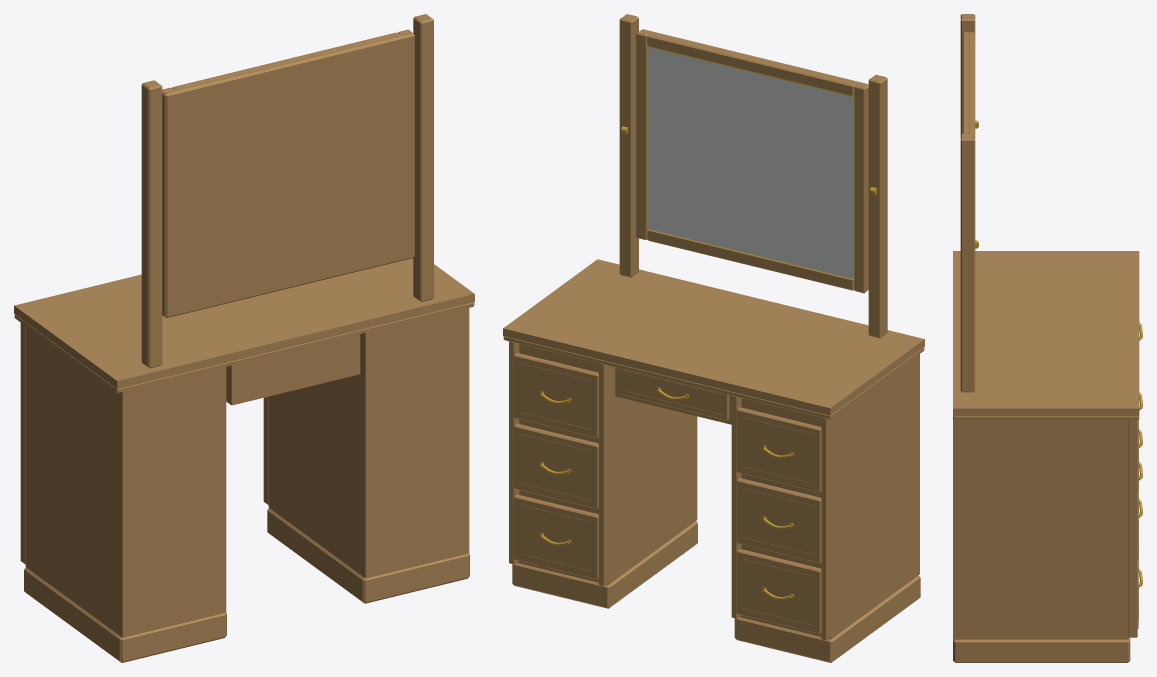
Rendered from parametric-dressing_table-2nd-pub.glb.
3 renders of one model, left to right at view 1: azimuth 30°, elevation 25°; view 2: azimuth 150°, elevation 25°; view 3: azimuth 270°, elevation 25°, orthographic. The views are drawn at different scales.
Visible parts, largest first — view 1: parametric-dressing_table-2nd-pub; view 2: parametric-dressing_table-2nd-pub; view 3: parametric-dressing_table-2nd-pub.
Boxes of the visible parts, x1,y1,x2,y2 form: parametric-dressing_table-2nd-pub: (14,14,474,662); parametric-dressing_table-2nd-pub: (503,14,924,662); parametric-dressing_table-2nd-pub: (953,14,1142,662).
Size of the model in its own units: 1 by 1.51 by 0.5093.
